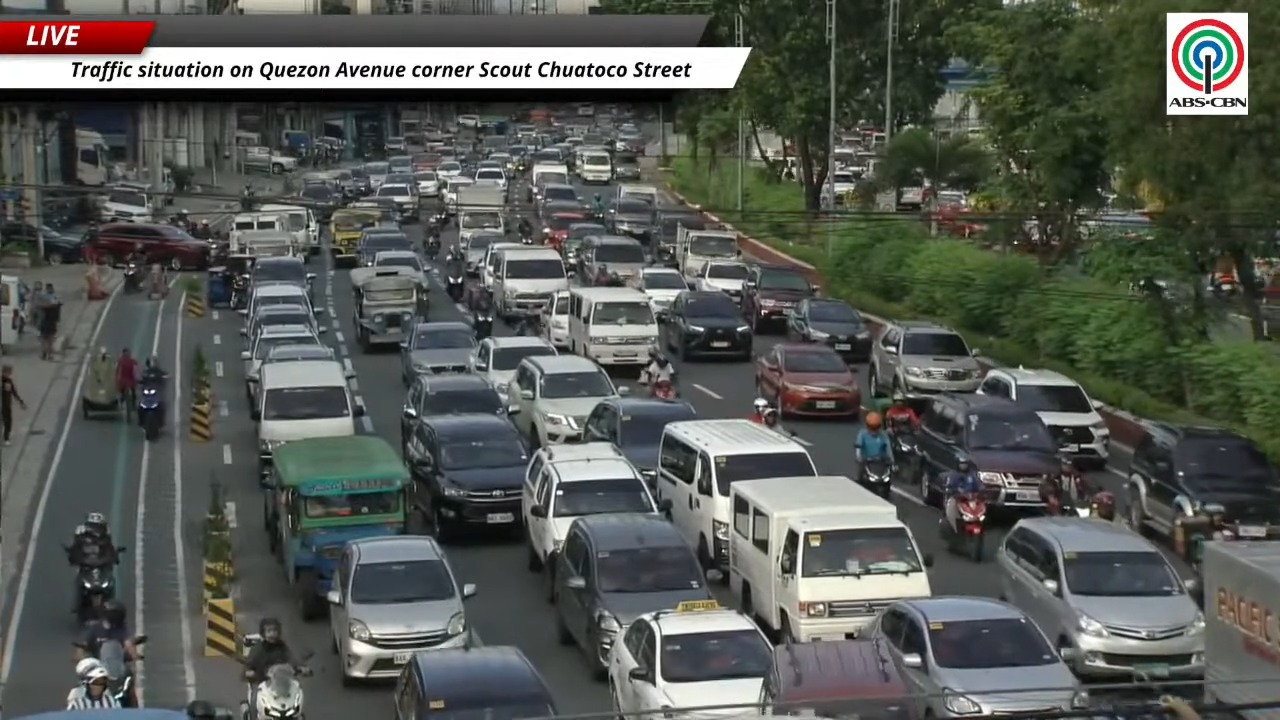car: (995, 517, 1204, 677), (547, 514, 713, 677), (867, 596, 1088, 718), (327, 535, 475, 683), (521, 441, 666, 571), (607, 602, 772, 716), (1124, 423, 1279, 539), (916, 393, 1062, 508), (404, 412, 528, 541), (978, 367, 1109, 469), (765, 638, 922, 719), (393, 646, 557, 719), (507, 356, 619, 448), (584, 396, 695, 484), (869, 321, 984, 393), (400, 374, 505, 448), (756, 343, 860, 417), (659, 291, 753, 359), (85, 222, 210, 271), (240, 324, 320, 399), (246, 344, 334, 407), (472, 336, 558, 400), (787, 298, 870, 361), (741, 264, 816, 331), (400, 322, 476, 385), (0, 221, 83, 264), (579, 235, 647, 284), (238, 282, 323, 321), (241, 303, 326, 340), (651, 207, 708, 262), (250, 256, 315, 296), (631, 267, 688, 312), (372, 251, 429, 292), (694, 260, 748, 301), (357, 227, 412, 266), (464, 230, 510, 276), (526, 159, 569, 208), (607, 197, 654, 240), (296, 183, 342, 221), (542, 210, 586, 249), (541, 291, 568, 349), (538, 182, 581, 216), (263, 344, 334, 364), (443, 175, 475, 214), (539, 200, 585, 221), (384, 170, 416, 196), (565, 221, 606, 241), (473, 166, 507, 190), (363, 162, 389, 192), (614, 152, 640, 181), (414, 170, 439, 197), (436, 160, 462, 181), (384, 136, 405, 153)
motorcycle: (241, 664, 310, 719), (242, 664, 303, 719), (940, 493, 986, 562), (97, 638, 138, 707), (1038, 469, 1091, 516), (77, 564, 115, 625), (889, 418, 919, 479), (137, 378, 165, 440), (860, 458, 893, 498), (123, 261, 146, 293), (649, 378, 677, 401), (514, 314, 542, 337), (231, 274, 248, 309), (446, 274, 464, 303), (473, 314, 492, 340), (425, 235, 440, 261), (434, 208, 448, 229), (520, 235, 532, 244)
truck: (727, 476, 931, 641), (1201, 541, 1279, 706), (674, 225, 740, 279), (456, 184, 506, 244), (75, 129, 109, 186), (240, 146, 297, 174)
